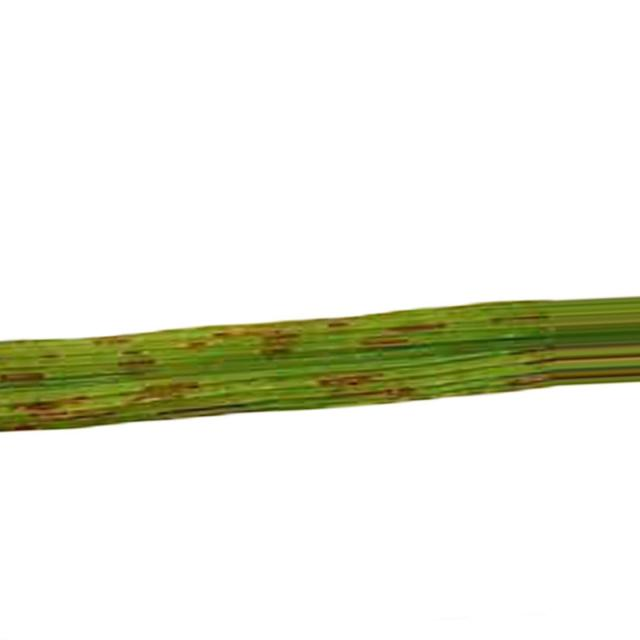Brown_Spot: (144, 400, 259, 420), (330, 382, 420, 404), (509, 372, 570, 389), (319, 372, 382, 386), (381, 322, 446, 334), (15, 399, 66, 412), (262, 329, 300, 344), (359, 338, 409, 349), (0, 372, 45, 383), (170, 381, 199, 398), (119, 359, 156, 370), (120, 346, 149, 359), (260, 344, 291, 356), (38, 348, 65, 361), (94, 336, 132, 345), (492, 316, 548, 321), (328, 320, 351, 329), (212, 326, 229, 338)
